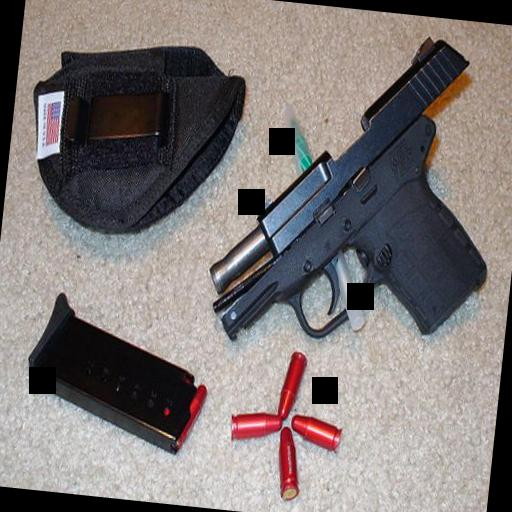Handgun: (201, 14, 511, 366)
